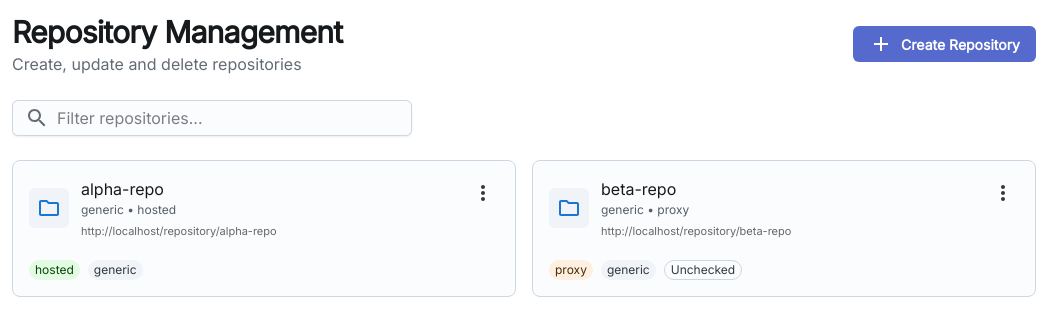
Test case: AdminRepos › filters repositories by search
Expected: the text "alpha-repo" is shown, [81,179,164,199]
In the field with placeholder "Filter repositories...": (228, 118) [57,101,399,135], type "beta"
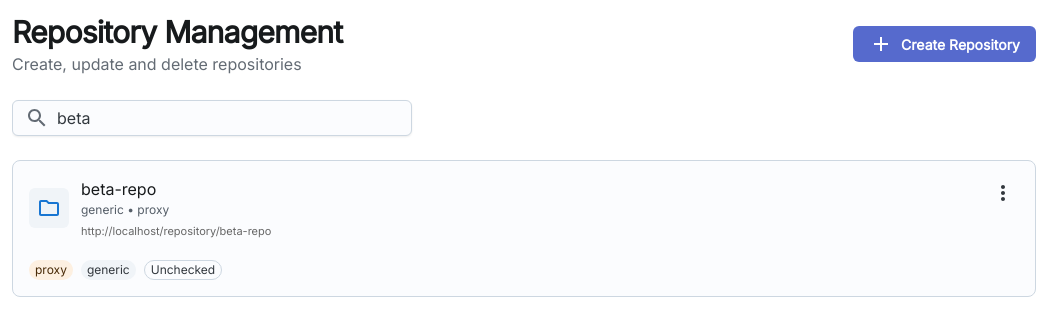
Expected: the text "beta-repo" is shown, [81,179,156,199]
Expected: the link "alpha-repo" is gone
